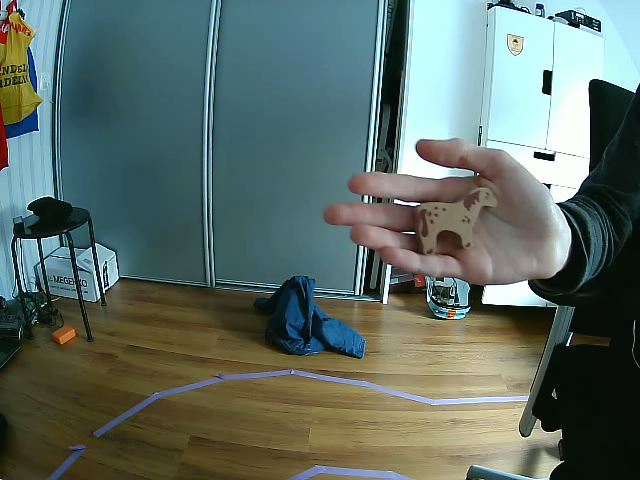paard: (418, 187, 496, 253)
